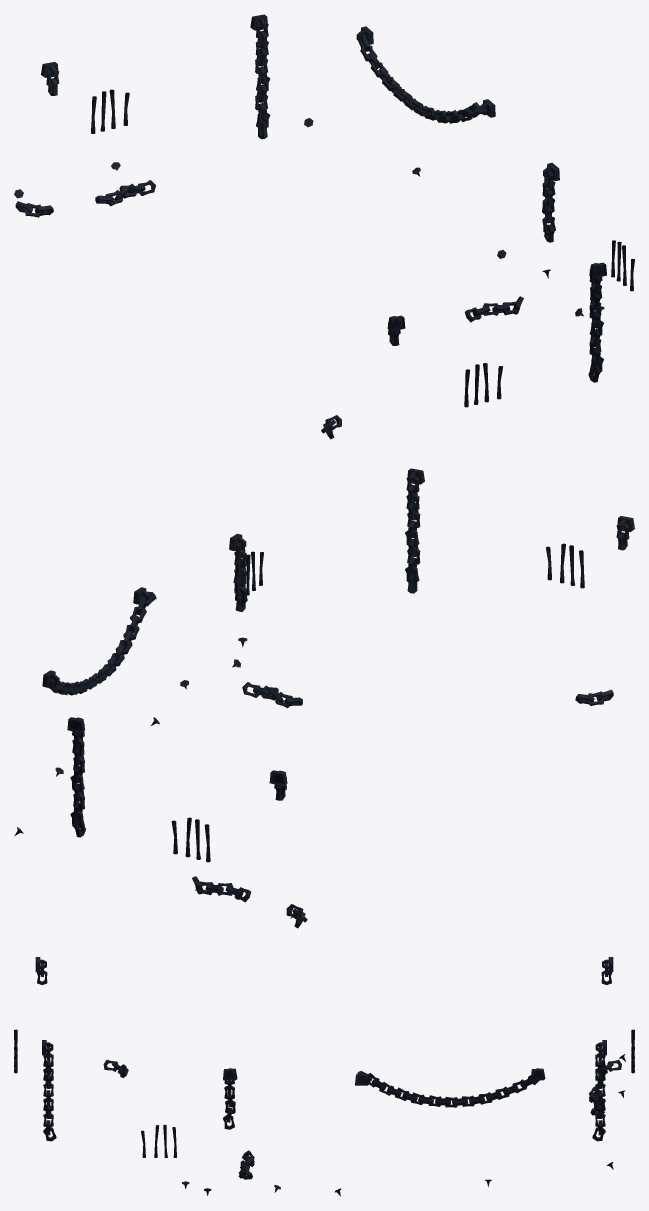
The model's file is Iron_01.FBX.
The picture shows the model from 3 angles, top to bottom: view 1: azimuth 30°, elevation 25°; view 2: azimuth 150°, elevation 25°; view 3: azimuth 270°, elevation 25°; orthographic projection. The views are drawn at different scales.
Parts seen in each view (by area): view 1: Iron_01; view 2: Iron_01; view 3: Iron_01.
Part boxes in pixels (box(x1,y1,x2,y2)): Iron_01: box(14, 14, 634, 439); Iron_01: box(14, 468, 634, 928); Iron_01: box(14, 957, 634, 1196).
Bounding box in the file's own units: 12.71 × 5.46 × 24.94.
